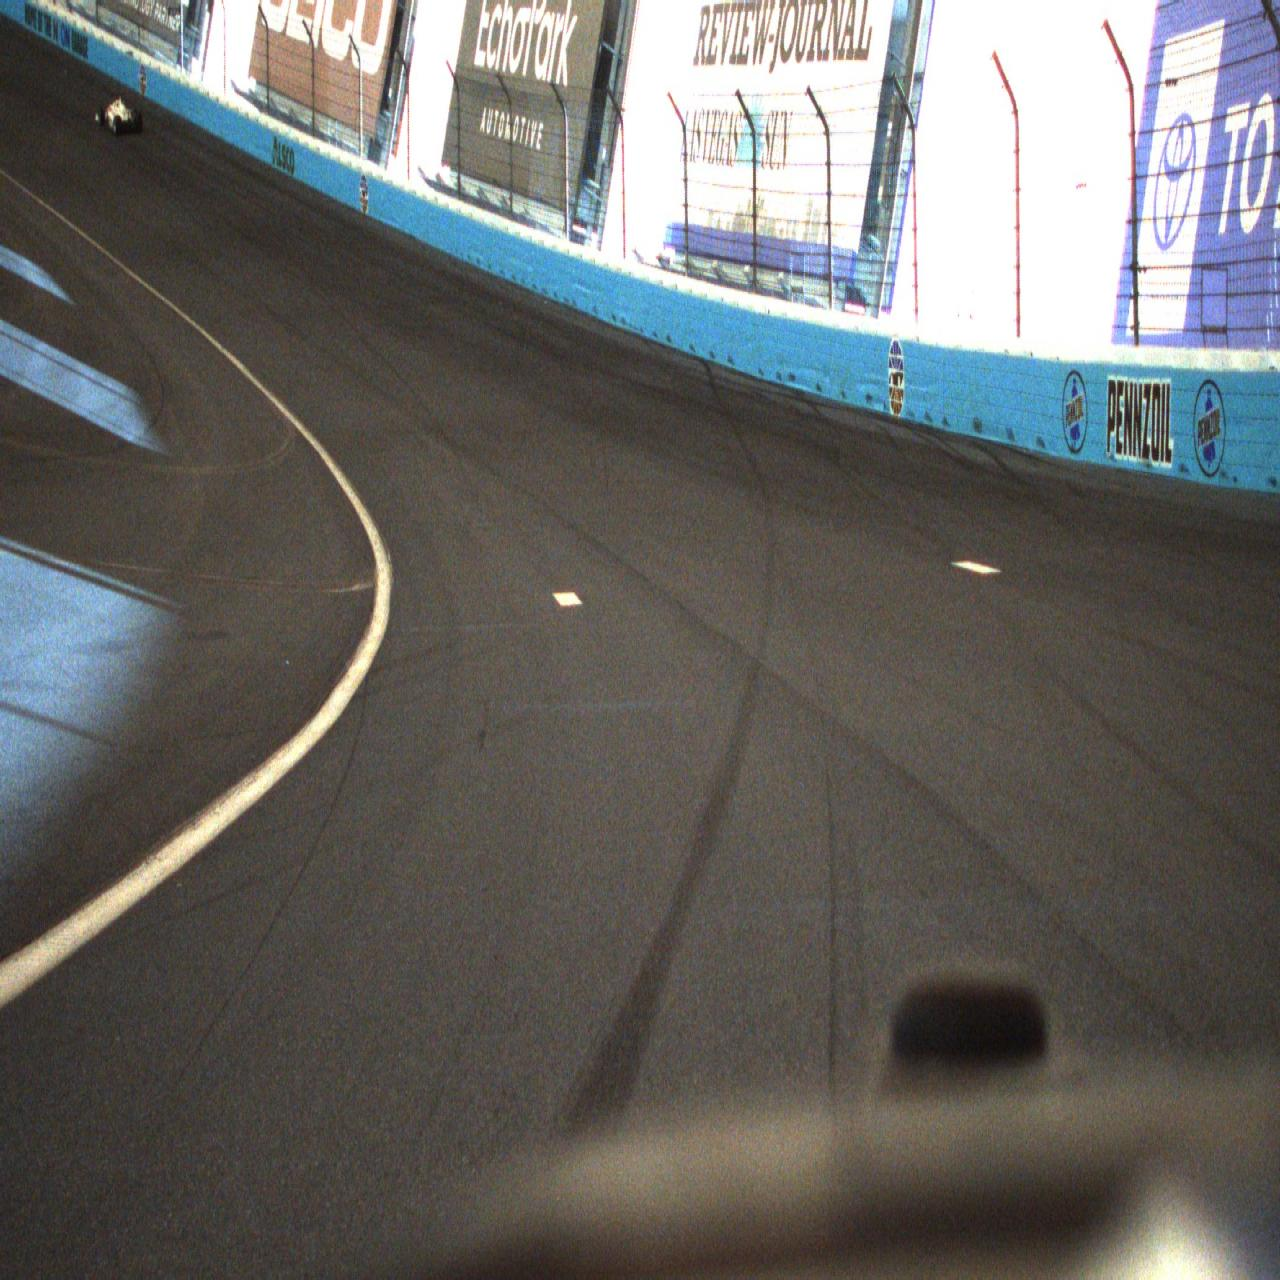AV: (95, 91, 143, 136)
Wheel: (114, 115, 122, 135), (136, 113, 143, 132), (98, 107, 104, 125)
